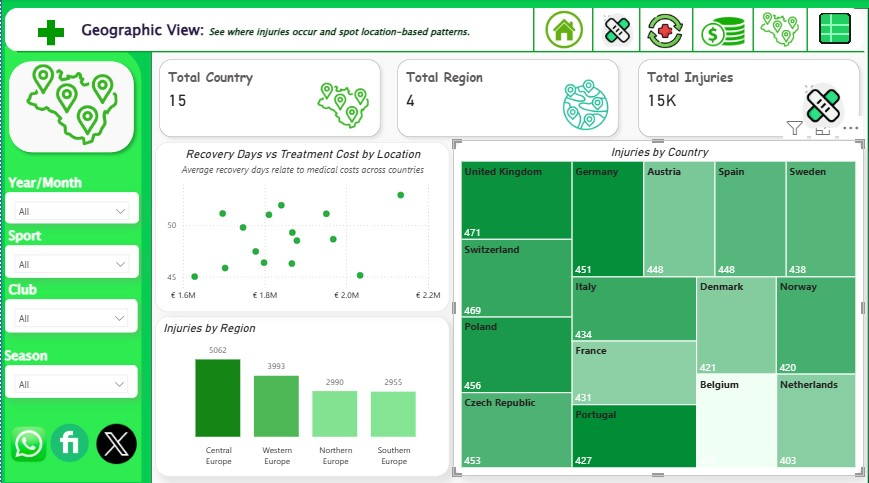

Layout of this report page (visuals, bound fields, positions):
{"tool":"powerbi","page":{"name":"Geo view","canvas":[1280,720],"ordinal":4},"visuals":[{"type":"shape","box":[0,0,1280.2,720],"z":0},{"type":"shape","box":[5.8,69.1,200.2,637.9],"z":1000},{"type":"shape","box":[218.9,13,1049.8,697],"z":2000},{"type":"shape","box":[5.8,13,1255.7,63.4],"z":3000},{"type":"textbox","box":[112.3,24.5,861.1,51.8],"z":4000},{"type":"cardVisual","title":"dbdbdbdbd","fields":{"Data":["Measure.Total Country"]},"box":[218.9,76.3,348.5,138.2],"z":5000},{"type":"columnChart","title":"Injuries by Region","fields":{"Y":["Measure.Total Injuries"],"Category":["DimLocation.Region"]},"box":[224.6,463.7,430.6,234.7],"z":6000},{"type":"scatterChart","title":"Recovery Days vs Treatment Cost by Location","fields":{"Category":["DimLocation.Country"],"X":["Measure.Total Treatment Cost"],"Y":["Measure.Avg Days to Recovery"]},"box":[224.6,208.8,430.6,249.1],"z":7000},{"type":"image","box":[33.1,13,79.2,73.4],"z":8000},{"type":"slicer","title":"Year/Month","fields":{"Values":["DateTable.Year","DateTable.Month Name"]},"box":[5.8,282.2,195.8,46.1],"z":9000},{"type":"textbox","box":[5.8,250.6,149.8,60.5],"z":10000},{"type":"slicer","title":"Year/Month","fields":{"Values":["DimClub.Sport"]},"box":[5.8,360,195.8,47.5],"z":11000},{"type":"textbox","box":[5.8,328.3,200.2,60.5],"z":12000},{"type":"slicer","title":"Year/Month","fields":{"Values":["DimClub.ClubTeamName"]},"box":[5.8,439.2,194.4,49],"z":13000},{"type":"textbox","box":[5.8,407.5,149.8,60.5],"z":14000},{"type":"cardVisual","title":"dbdbdbdbd","fields":{"Data":["Measure.Total Injuries"]},"box":[920.2,76.3,348.5,138.2],"z":15000},{"type":"cardVisual","title":"dbdbdbdbd","fields":{"Data":["Measure.Total Region"]},"box":[567.4,76.3,348.5,138.2],"z":16000},{"type":"treemap","title":"Injuries by Country","fields":{"Group":["DimLocation.Country"],"Values":["Measure.Total Injuries"]},"box":[661.5,206.3,601.5,491.7],"z":17000},{"type":"slicer","title":"Year/Month","fields":{"Values":["FactInjuries.Season"]},"box":[5.8,535.7,194.4,47.5],"z":18000},{"type":"textbox","box":[0,504,200.2,56.2],"z":19000},{"type":"image","box":[1162.1,115.2,83.5,80.6],"z":20000},{"type":"image","box":[457.9,115.2,85,80.6],"z":21000},{"type":"image","box":[813.6,103.7,83.5,102.2],"z":22000},{"type":"image","box":[792,10.1,64.8,69.1],"z":23000},{"type":"image","box":[871.2,10.1,63.4,70.6],"z":24000},{"type":"image","box":[941.6,8.5,61.5,76.9],"z":25000},{"type":"image","box":[1019.5,7.2,73.4,80.6],"z":26000},{"type":"shape","box":[756,13,46.1,63.4],"z":27000},{"type":"shape","box":[842.4,13,46.1,63.4],"z":28000},{"type":"shape","box":[911.5,13,46.1,63.4],"z":29000},{"type":"shape","box":[989.3,13,46.1,63.4],"z":30000},{"type":"shape","box":[1075.7,13,50.4,63.4],"z":31000},{"type":"shape","box":[1154.9,13,50.4,63.4],"z":32000},{"type":"shape","box":[23,46.1,1239.8,63.4],"z":33000},{"type":"image","box":[1105.9,11.5,66.2,66.2],"z":34000},{"type":"image","box":[1180.8,11.5,76.3,60.5],"z":35000},{"type":"shape","box":[2.9,82.1,200.2,151.2],"z":36000},{"type":"image","box":[31.7,90.7,142.6,128.2],"z":37000},{"type":"image","box":[0,614.9,80.6,73.4],"z":38000},{"type":"image","box":[67.7,614.9,66.2,69.1],"z":39000},{"type":"image","box":[133.9,614.9,69.1,72],"z":40000}]}

Visuals, with their boxes in screenshot pixels (x1, y1, x2, y2), scaled from the page's 1280x720 canvas onto the 869x483 screenshot:
shape: select_region(0, 0, 868, 482)
shape: select_region(4, 46, 140, 474)
shape: select_region(149, 9, 861, 476)
shape: select_region(4, 9, 856, 51)
textbox: select_region(76, 16, 661, 51)
"dbdbdbdbd" cardVisual: select_region(149, 51, 385, 144)
"Injuries by Region" columnChart: select_region(152, 311, 445, 469)
"Recovery Days vs Treatment Cost by Location" scatterChart: select_region(152, 140, 445, 307)
image: select_region(22, 9, 76, 58)
"Year/Month" slicer: select_region(4, 189, 137, 220)
textbox: select_region(4, 168, 106, 209)
"Year/Month" slicer: select_region(4, 241, 137, 273)
textbox: select_region(4, 220, 140, 261)
"Year/Month" slicer: select_region(4, 295, 136, 328)
textbox: select_region(4, 273, 106, 314)
"dbdbdbdbd" cardVisual: select_region(625, 51, 861, 144)
"dbdbdbdbd" cardVisual: select_region(385, 51, 622, 144)
"Injuries by Country" treemap: select_region(449, 138, 857, 468)
"Year/Month" slicer: select_region(4, 359, 136, 391)
textbox: select_region(0, 338, 136, 376)
image: select_region(789, 77, 846, 131)
image: select_region(311, 77, 369, 131)
image: select_region(552, 70, 609, 138)
image: select_region(538, 7, 582, 53)
image: select_region(591, 7, 635, 54)
image: select_region(639, 6, 681, 57)
image: select_region(692, 5, 742, 59)
shape: select_region(513, 9, 545, 51)
shape: select_region(572, 9, 603, 51)
shape: select_region(619, 9, 650, 51)
shape: select_region(672, 9, 703, 51)
shape: select_region(730, 9, 765, 51)
shape: select_region(784, 9, 818, 51)
shape: select_region(16, 31, 857, 73)
image: select_region(751, 8, 796, 52)
image: select_region(802, 8, 853, 48)
shape: select_region(2, 55, 138, 157)
image: select_region(22, 61, 118, 147)
image: select_region(0, 412, 55, 462)
image: select_region(46, 412, 91, 459)
image: select_region(91, 412, 138, 461)
